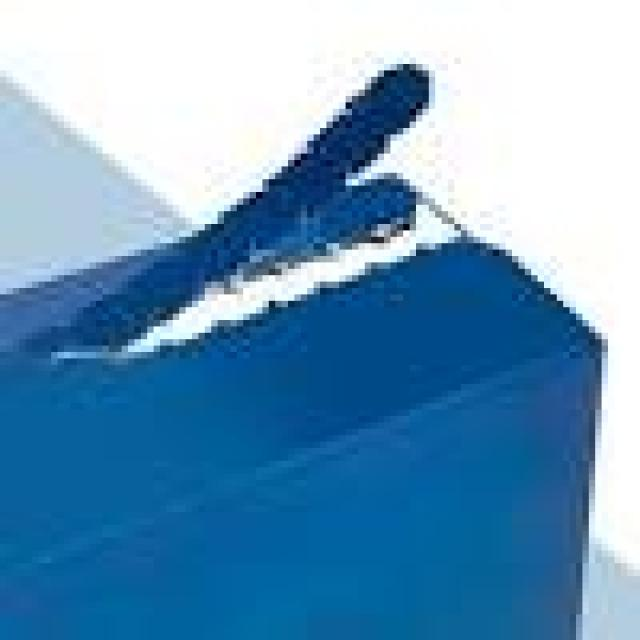tear: (58, 77, 542, 325)
